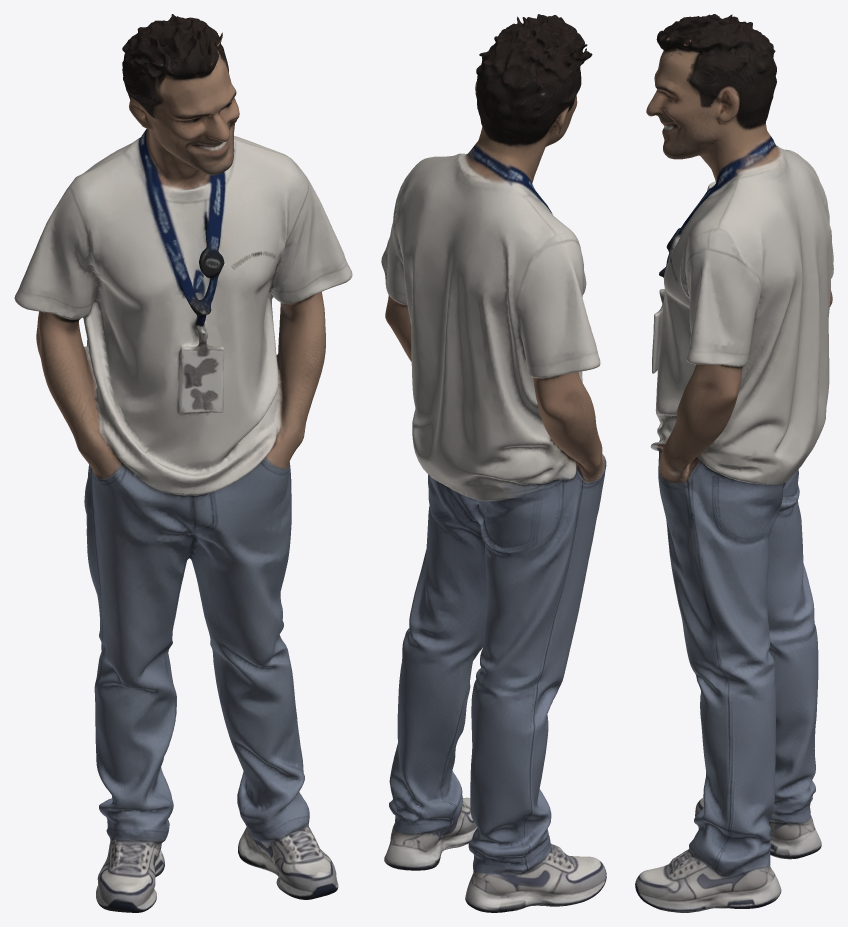
The model's file is Meshy_AI_Smiling_Staff_Member_1008002036_texture.fbx.
3 views of the same model, side by side, from view 1: azimuth 30°, elevation 25°; view 2: azimuth 150°, elevation 25°; view 3: azimuth 270°, elevation 25° (orthographic). The views are drawn at different scales.
Parts seen in each view (by area): view 1: Mesh_0; view 2: Mesh_0; view 3: Mesh_0.
Boxes of the visible parts, bbox=[...] form: Mesh_0: bbox=[14, 14, 352, 912]; Mesh_0: bbox=[381, 14, 606, 912]; Mesh_0: bbox=[635, 14, 833, 912].
Size of the model in its own units: 62.62 by 190 by 40.91.
1 material, 1 textured.
